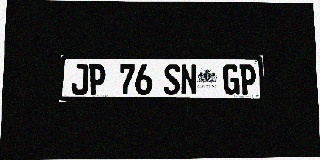6: (135, 64, 152, 95)
7: (118, 64, 135, 95)
G: (223, 64, 240, 95)
J: (71, 64, 88, 95)
N: (180, 64, 197, 95)
P: (88, 64, 105, 95), (239, 64, 256, 95)
S: (164, 64, 180, 95)
